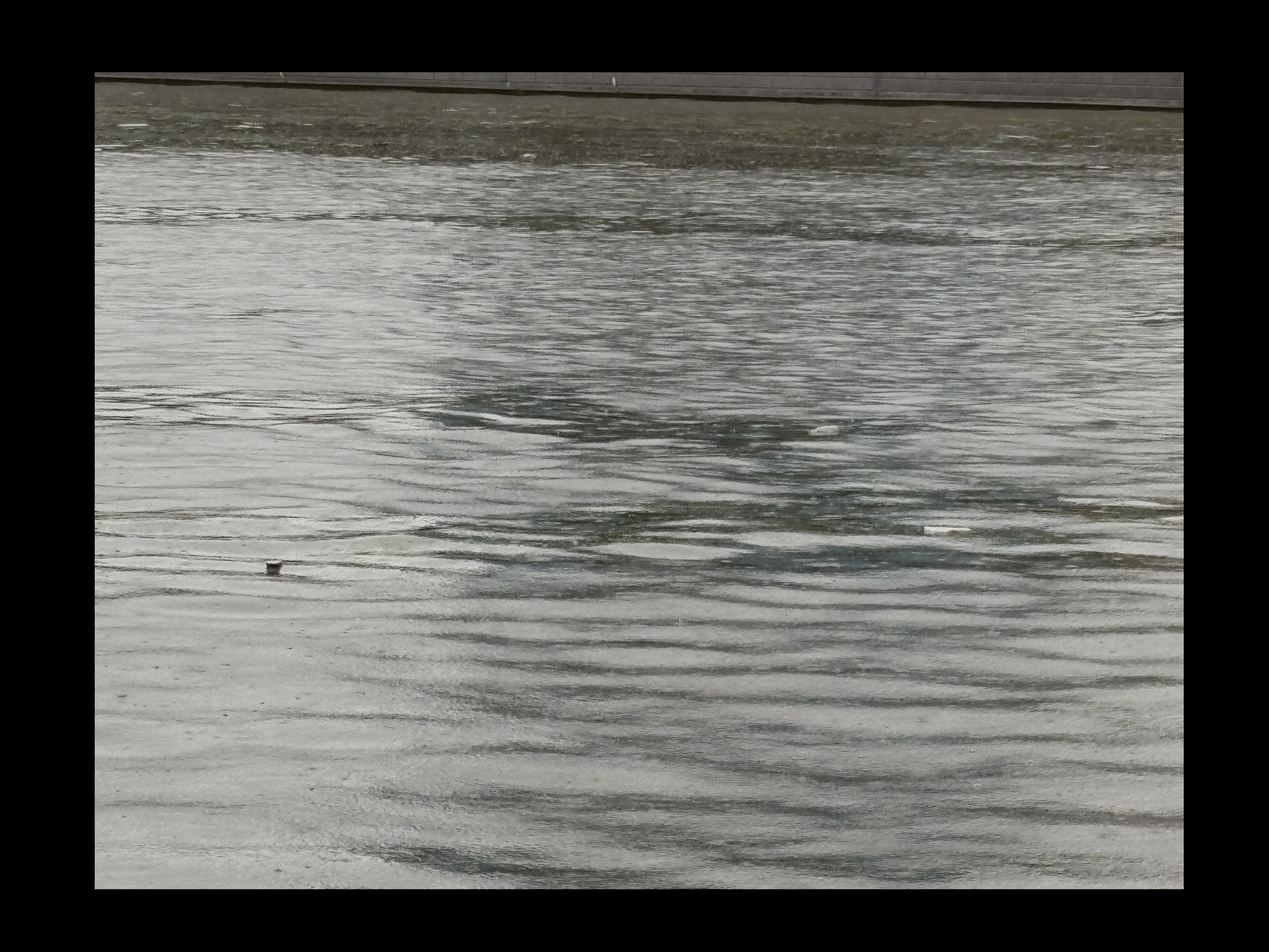Plastic wastes: (920, 519, 976, 538), (809, 420, 839, 441), (264, 557, 286, 575)
